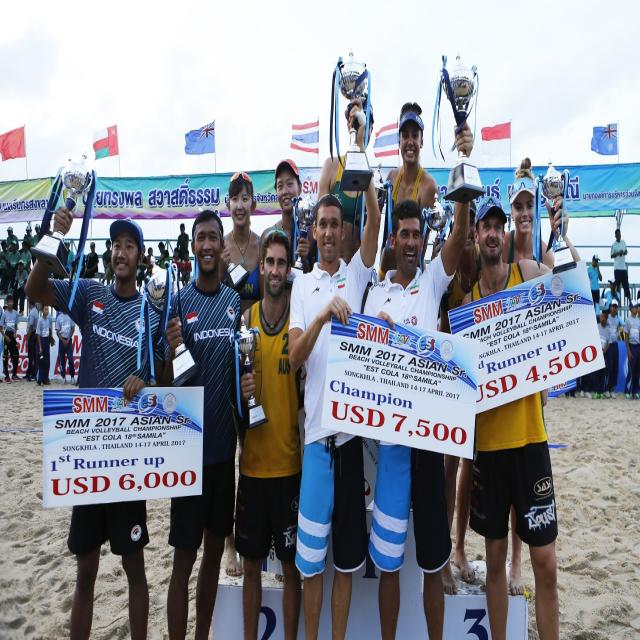body: (21, 199, 171, 639), (362, 118, 476, 639), (455, 194, 587, 639), (288, 94, 382, 639), (101, 239, 214, 640), (161, 208, 242, 640), (235, 226, 302, 639), (501, 156, 555, 596), (429, 199, 484, 595), (218, 171, 266, 577), (376, 100, 438, 284), (315, 92, 375, 267), (258, 157, 316, 300), (604, 297, 625, 399), (0, 291, 23, 384), (592, 307, 613, 400), (34, 301, 56, 386), (610, 228, 633, 309), (54, 311, 76, 386), (22, 293, 40, 383), (625, 298, 639, 401), (38, 305, 52, 386), (12, 258, 28, 317), (587, 253, 603, 308), (80, 240, 100, 279), (601, 276, 621, 310), (0, 240, 12, 296), (135, 243, 147, 296), (176, 222, 190, 265), (63, 239, 75, 289), (29, 222, 41, 266), (154, 240, 170, 270), (180, 248, 192, 288), (7, 239, 21, 270), (20, 240, 32, 275), (170, 246, 182, 280), (143, 247, 153, 285), (6, 225, 20, 252), (26, 224, 34, 255), (78, 253, 85, 277), (46, 222, 54, 236), (0, 305, 7, 319), (635, 297, 640, 316)
